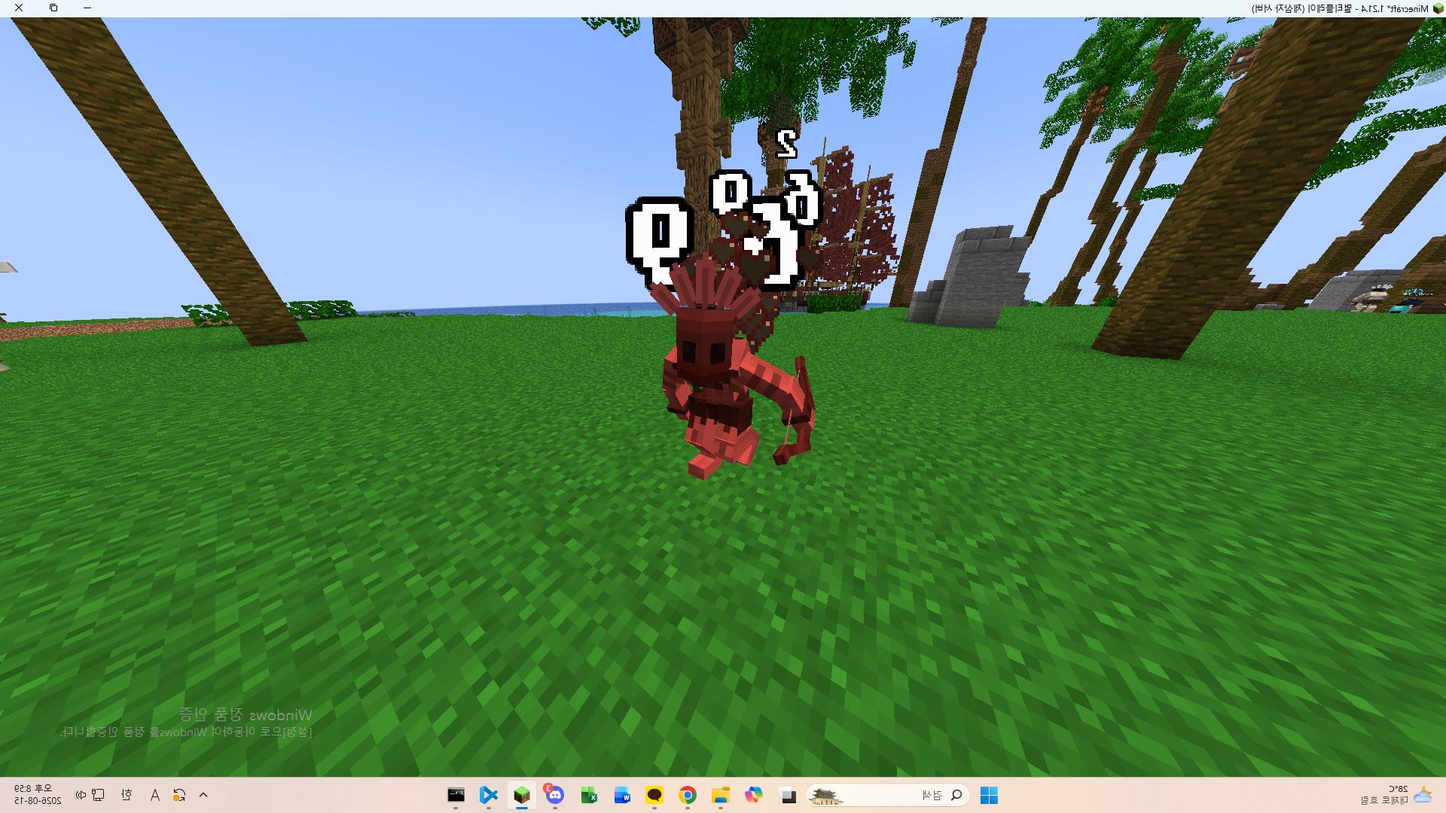bow_indian: (620, 208, 875, 488)
